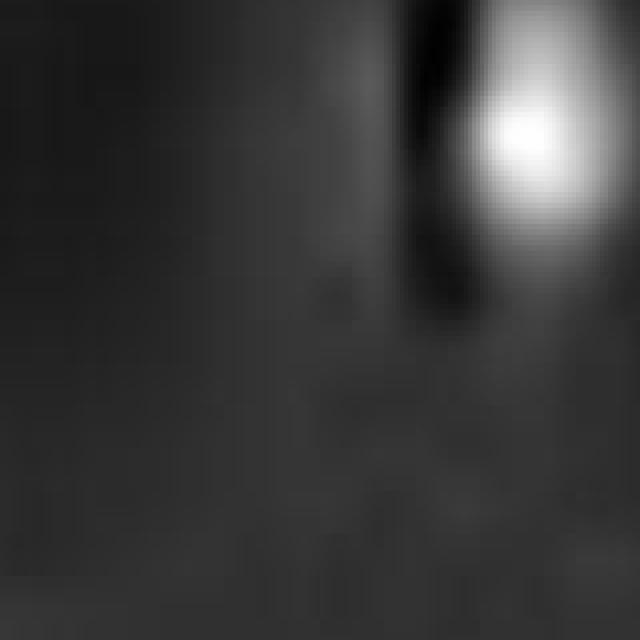person: (441, 1, 640, 358)
